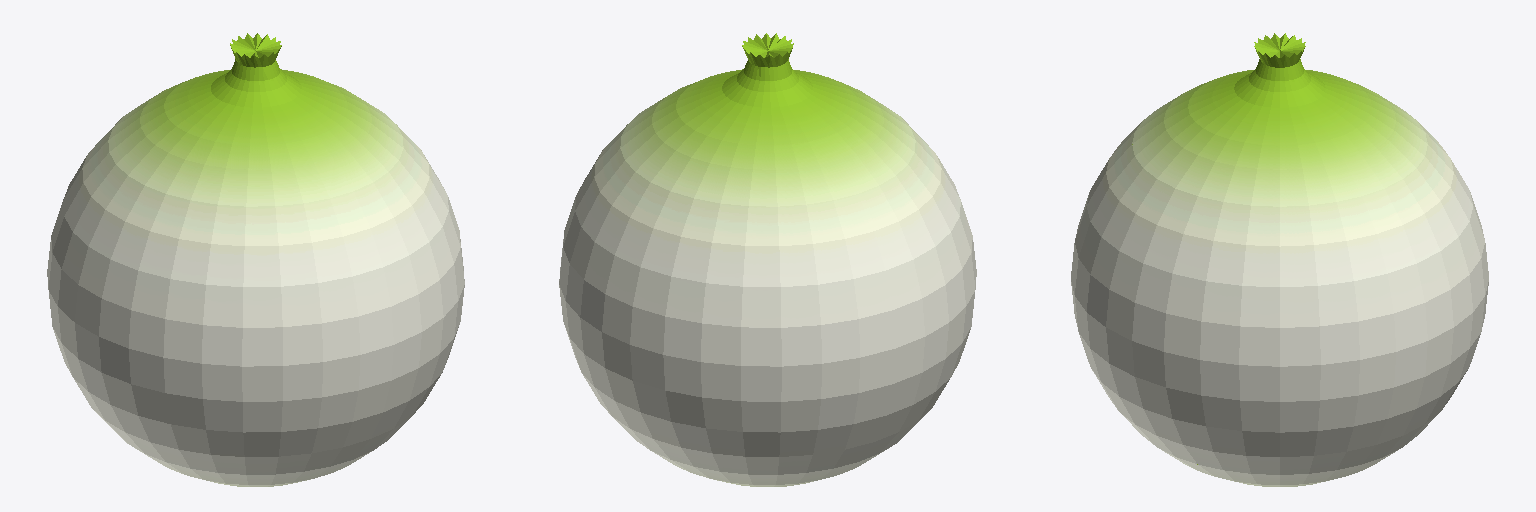
3 renders of one model, left to right at view 1: azimuth 30°, elevation 25°; view 2: azimuth 150°, elevation 25°; view 3: azimuth 270°, elevation 25°, orthographic.
Visible parts, largest first — view 1: Sphere; view 2: Sphere; view 3: Sphere.
Boxes of the visible parts, box(x1,y1,x2,y2) form: Sphere: box(47, 33, 464, 486); Sphere: box(559, 33, 976, 486); Sphere: box(1071, 33, 1488, 486).
Size of the model in its own units: 2 by 2.24 by 2.
1 materials, 1 textured.